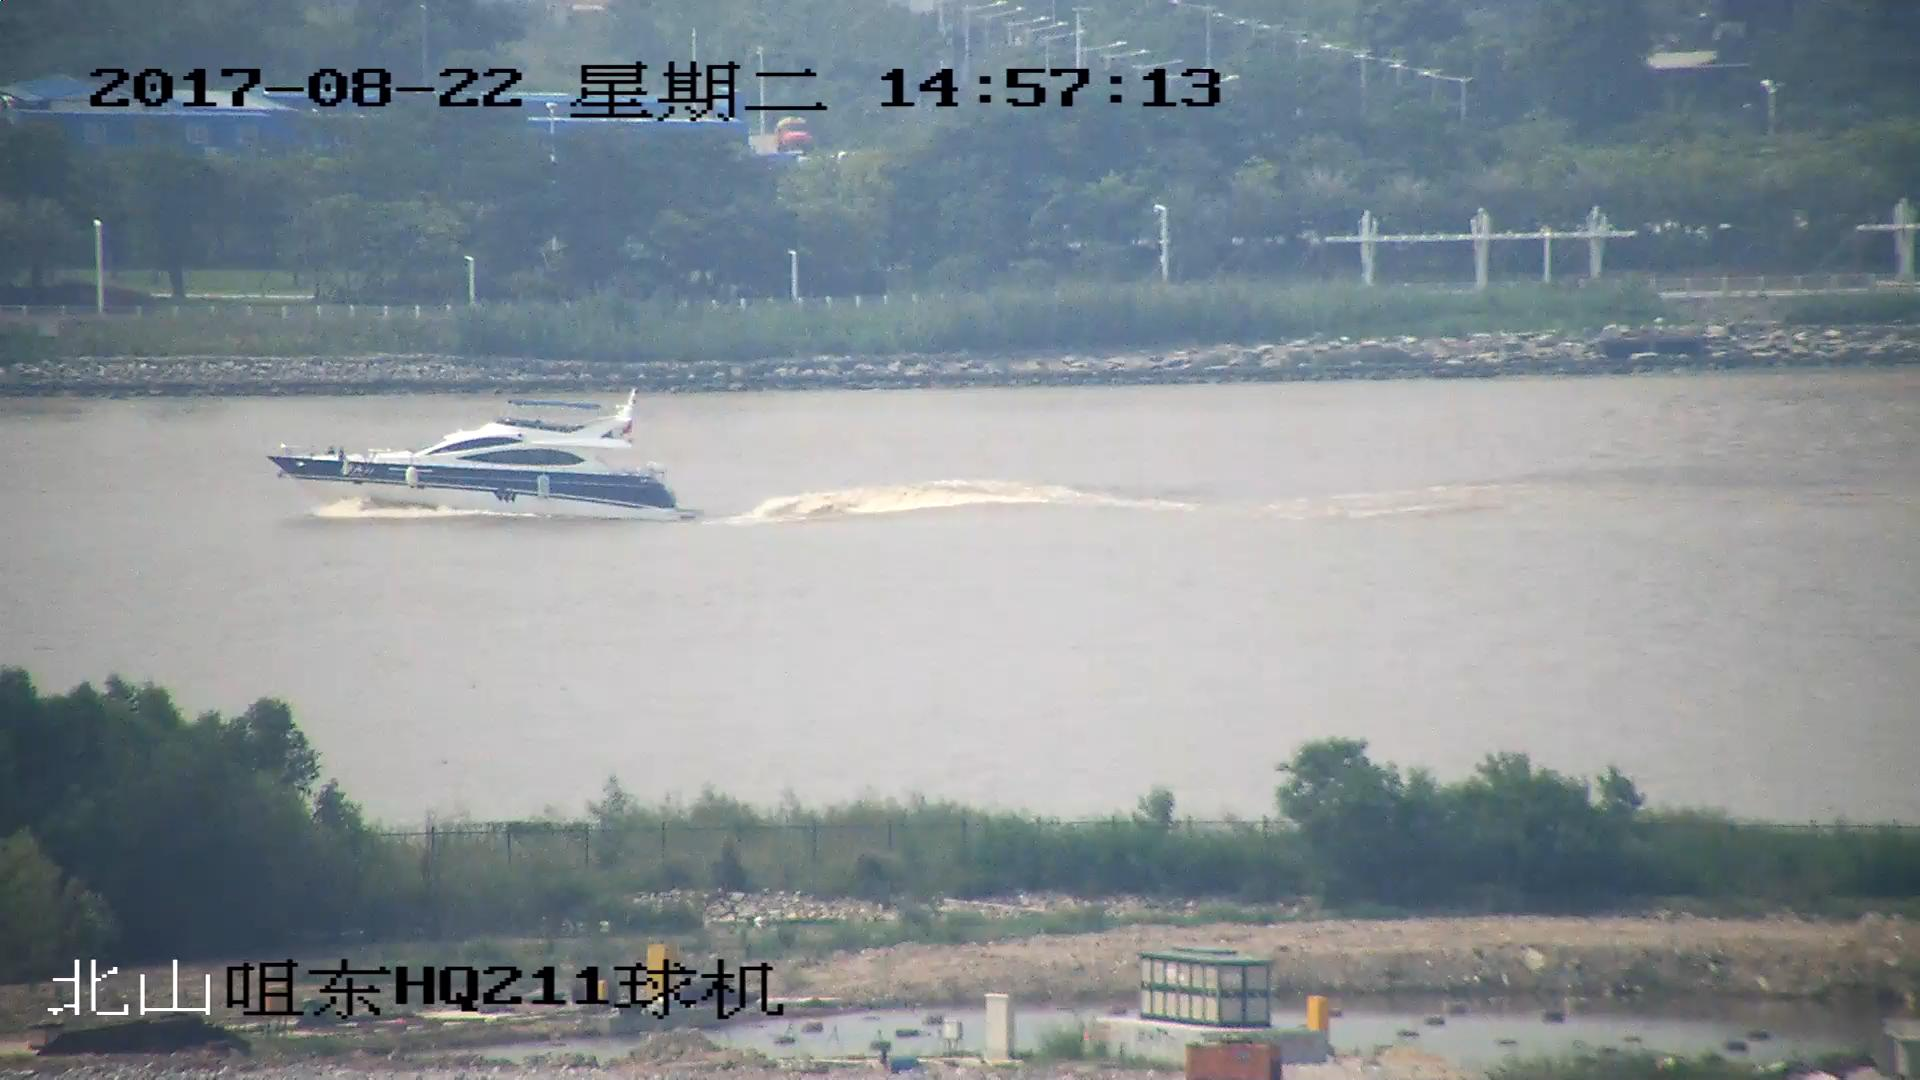passenger ship: (272, 389, 680, 527)
